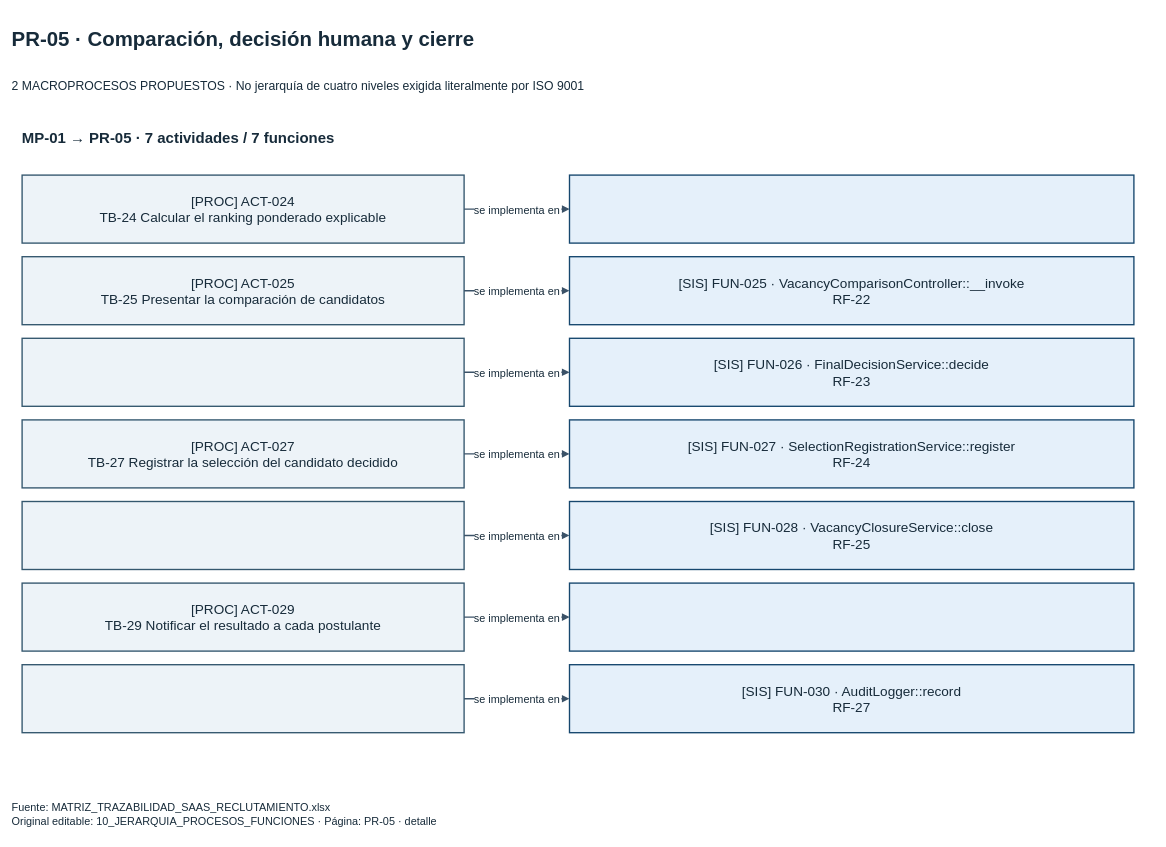
Some shapes in this 1166 by 847 pixel diagram are drawn without their labels. The centre of each missing label's shape, as x and y in pixels:
[PROC] ACT-026 TB-26 Registrar la decisión final humana: the point at 242,372
[PROC] ACT-028 TB-28 Cerrar la convocatoria (con selección): the point at 242,535
[PROC] ACT-030 TB-30 Registrar la auditoría de las acciones críticas: the point at 242,698
[SIS] FUN-024 · RankingService::rank RF-21: the point at 851,208
[SIS] FUN-029 · ProcessResultNotification::message RF-26: the point at 851,616
